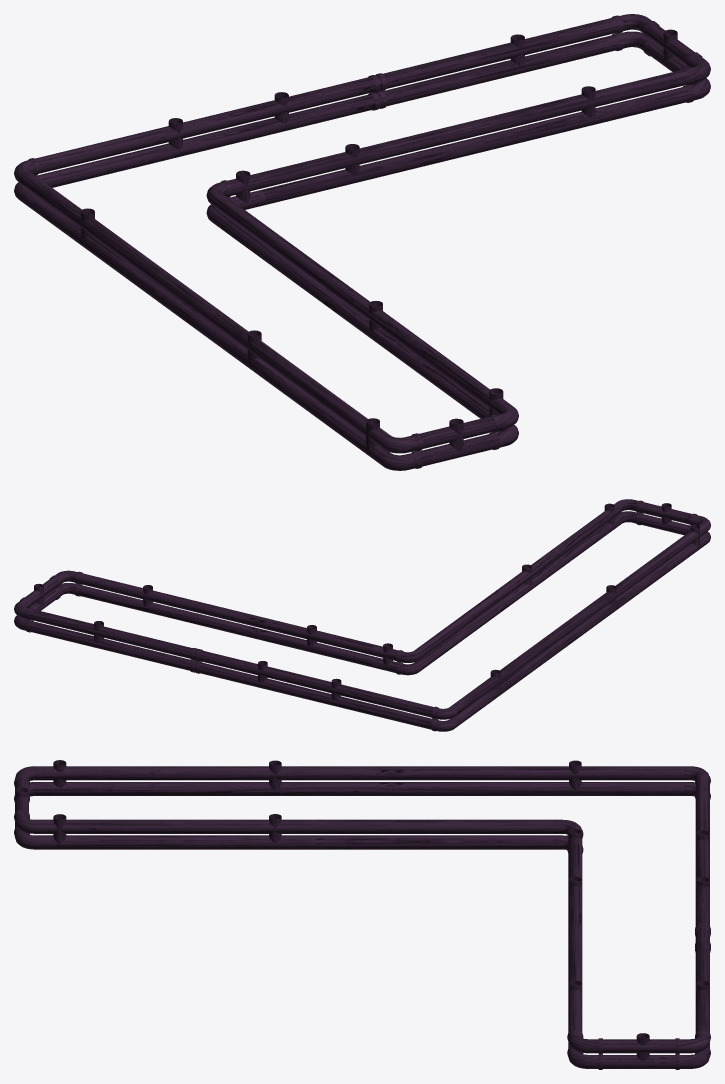
File: Pipe_fbx.fbx
3 views of the same model, one above another, from view 1: azimuth 30°, elevation 25°; view 2: azimuth 150°, elevation 25°; view 3: azimuth 270°, elevation 25° (orthographic). The views are drawn at different scales.
Parts seen in each view (by area): view 1: Purple_Pipe3; view 2: Purple_Pipe3; view 3: Purple_Pipe3.
Part boxes in pixels (x1=…): Purple_Pipe3: x1=14, y1=14, x2=710, y2=470; Purple_Pipe3: x1=14, y1=499, x2=710, y2=731; Purple_Pipe3: x1=14, y1=760, x2=710, y2=1069.
Bounding box in the file's own units: 3828 × 213 × 4037.
